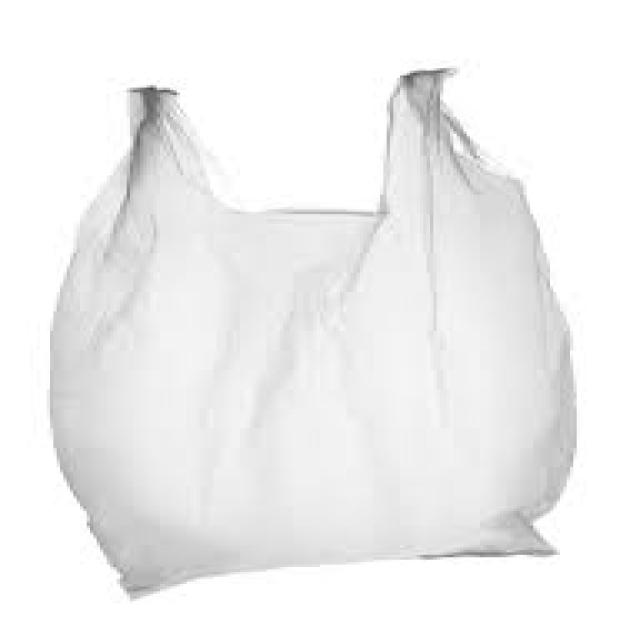plastic bag: (10, 0, 640, 623)
